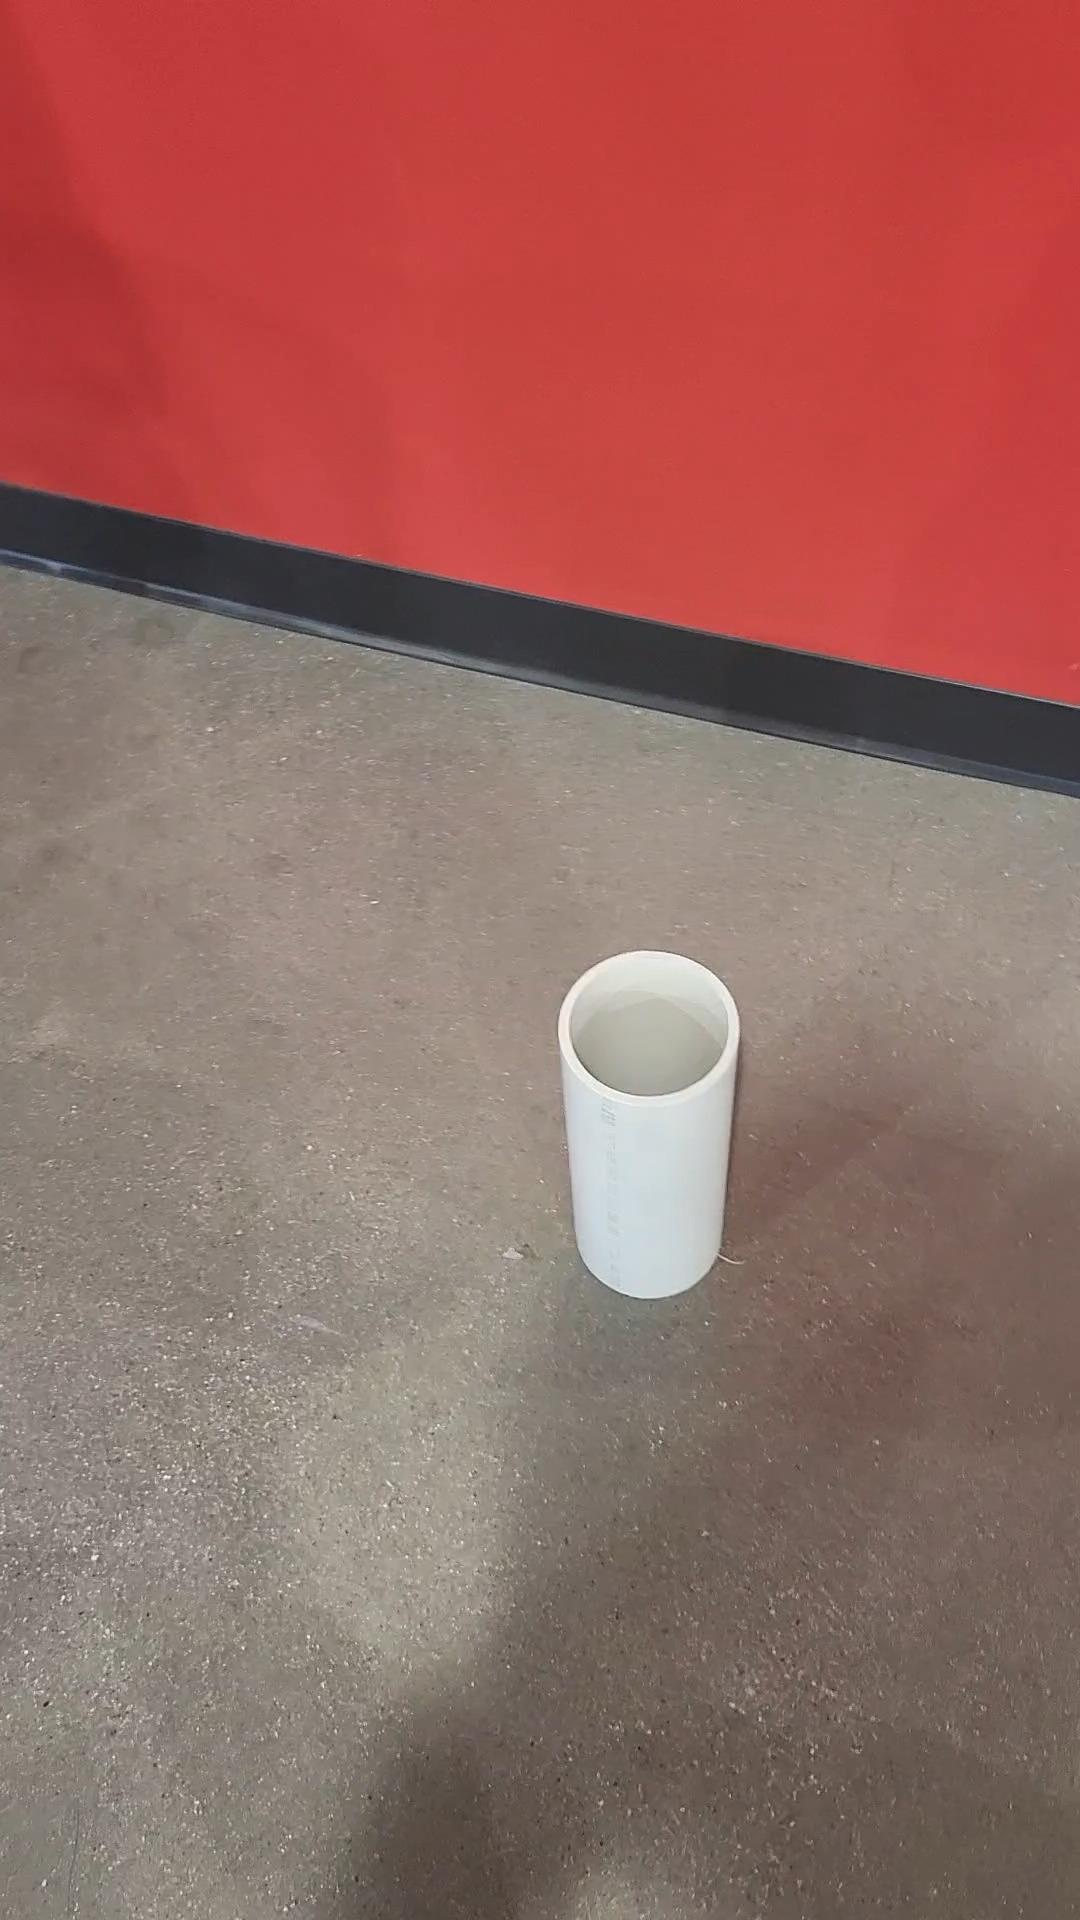coral: (562, 948, 752, 1303)
